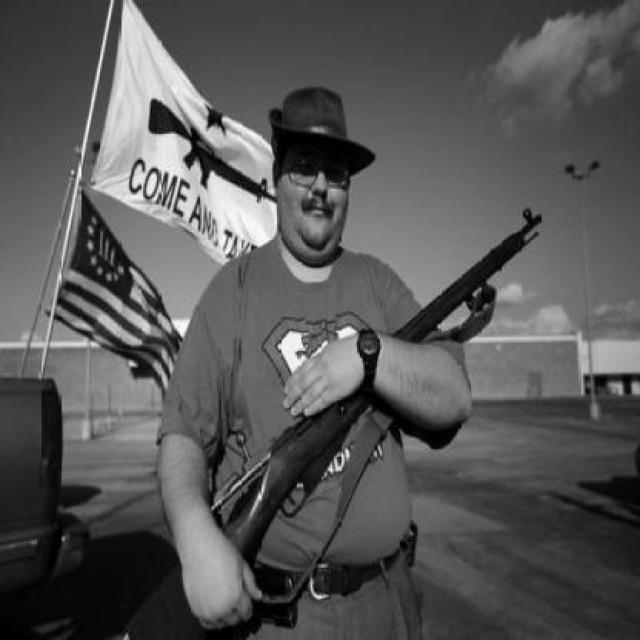weapon: (208, 206, 547, 566)
